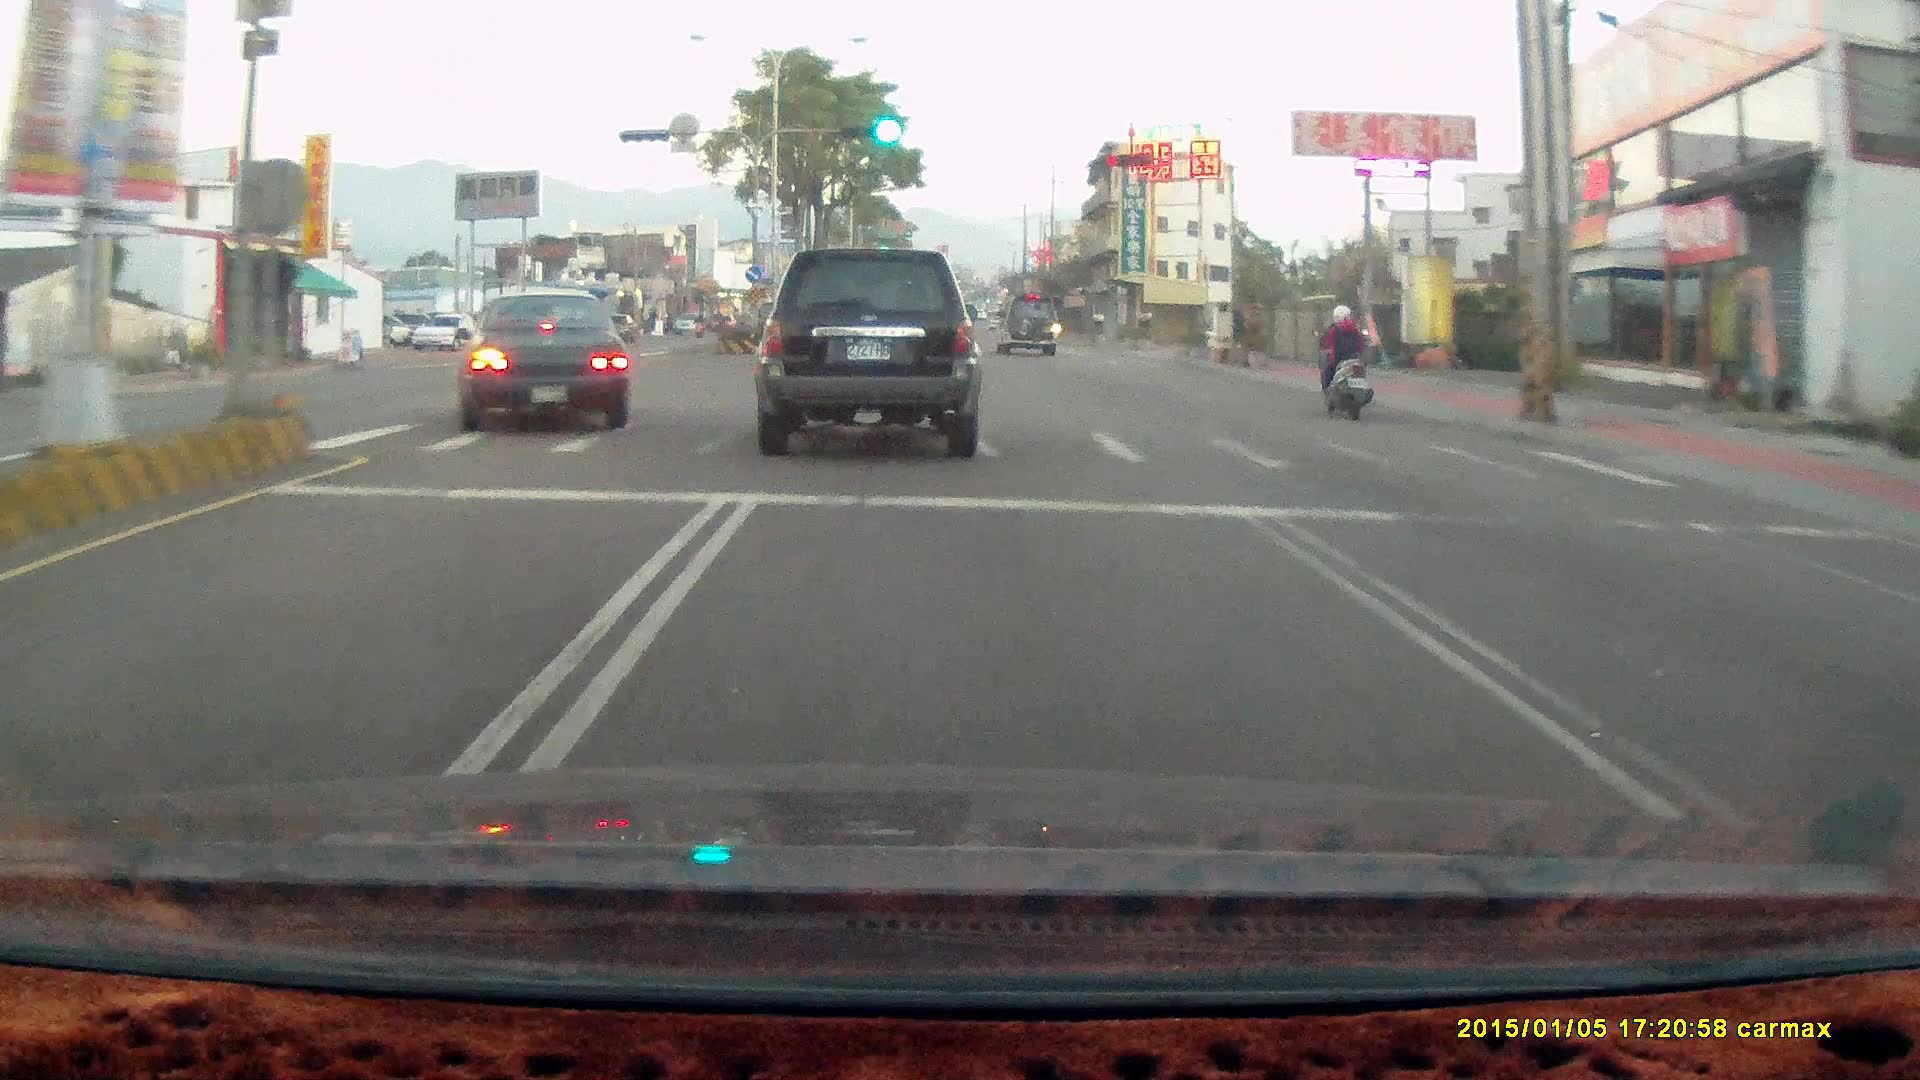rider: (1304, 295, 1387, 427), (1311, 300, 1373, 419)
vehicle: (750, 241, 984, 466), (752, 246, 982, 457), (453, 283, 629, 428), (452, 287, 628, 426), (995, 291, 1061, 359), (993, 279, 1058, 341), (409, 311, 484, 349), (588, 310, 637, 342)
